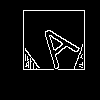A: (29, 13, 81, 70)
